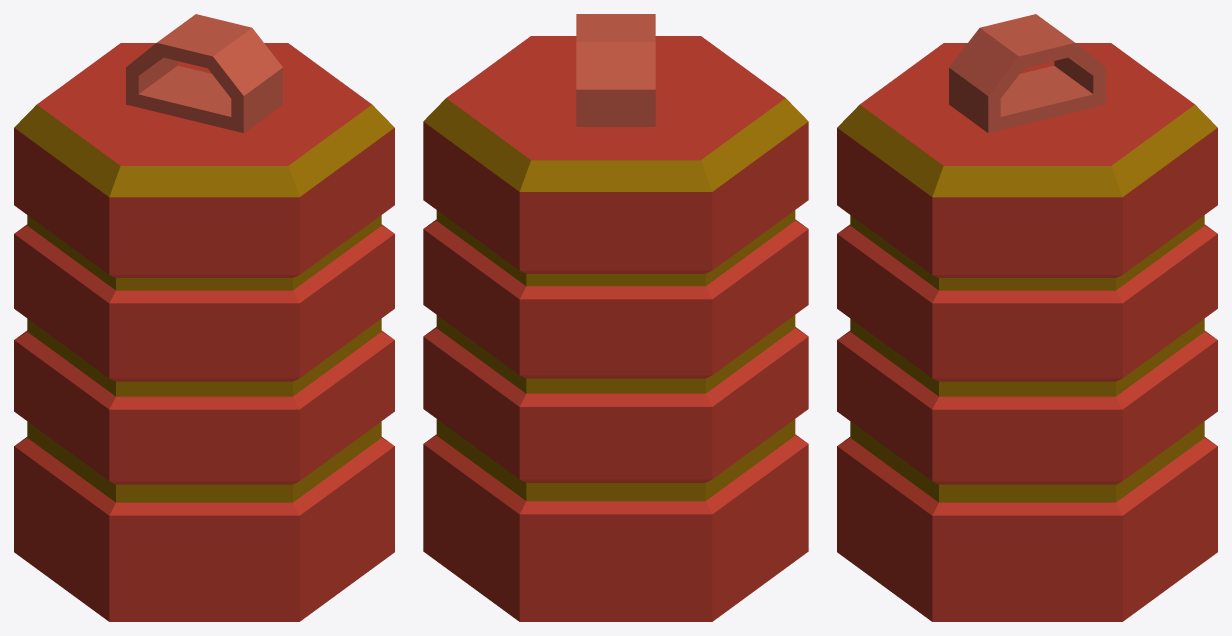
Rendered from Barricade 3.fbx.
3 renders of one model, left to right at view 1: azimuth 30°, elevation 25°; view 2: azimuth 150°, elevation 25°; view 3: azimuth 270°, elevation 25°, orthographic.
Visible parts, largest first — view 1: Barricade 3; view 2: Barricade 3; view 3: Barricade 3.
Part boxes in pixels (box(x1,y1,x2,y2)): Barricade 3: box(14, 14, 394, 621); Barricade 3: box(423, 14, 808, 621); Barricade 3: box(837, 14, 1217, 621).
Bounding box in the file's own units: 0.5611 × 0.6479 × 0.971.
